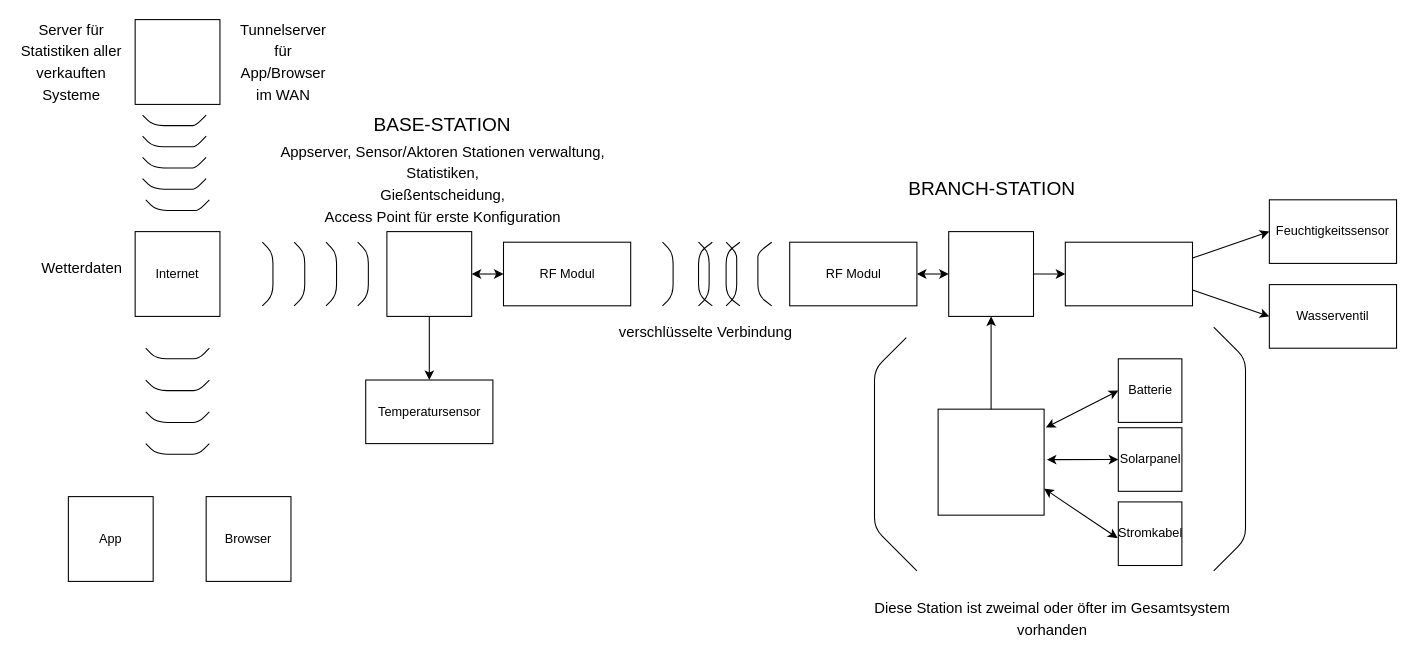
Image size: 1415x658. Some labels were removed from this diagram. Each missing label, with the box of its shape:
Raspberry: (386, 231, 472, 316)
Server: (134, 19, 220, 104)
Spannungs= =versorgung: (937, 408, 1044, 515)
Wasserfeste Schnittstelle: (1064, 241, 1192, 306)
µC: (948, 231, 1034, 316)
